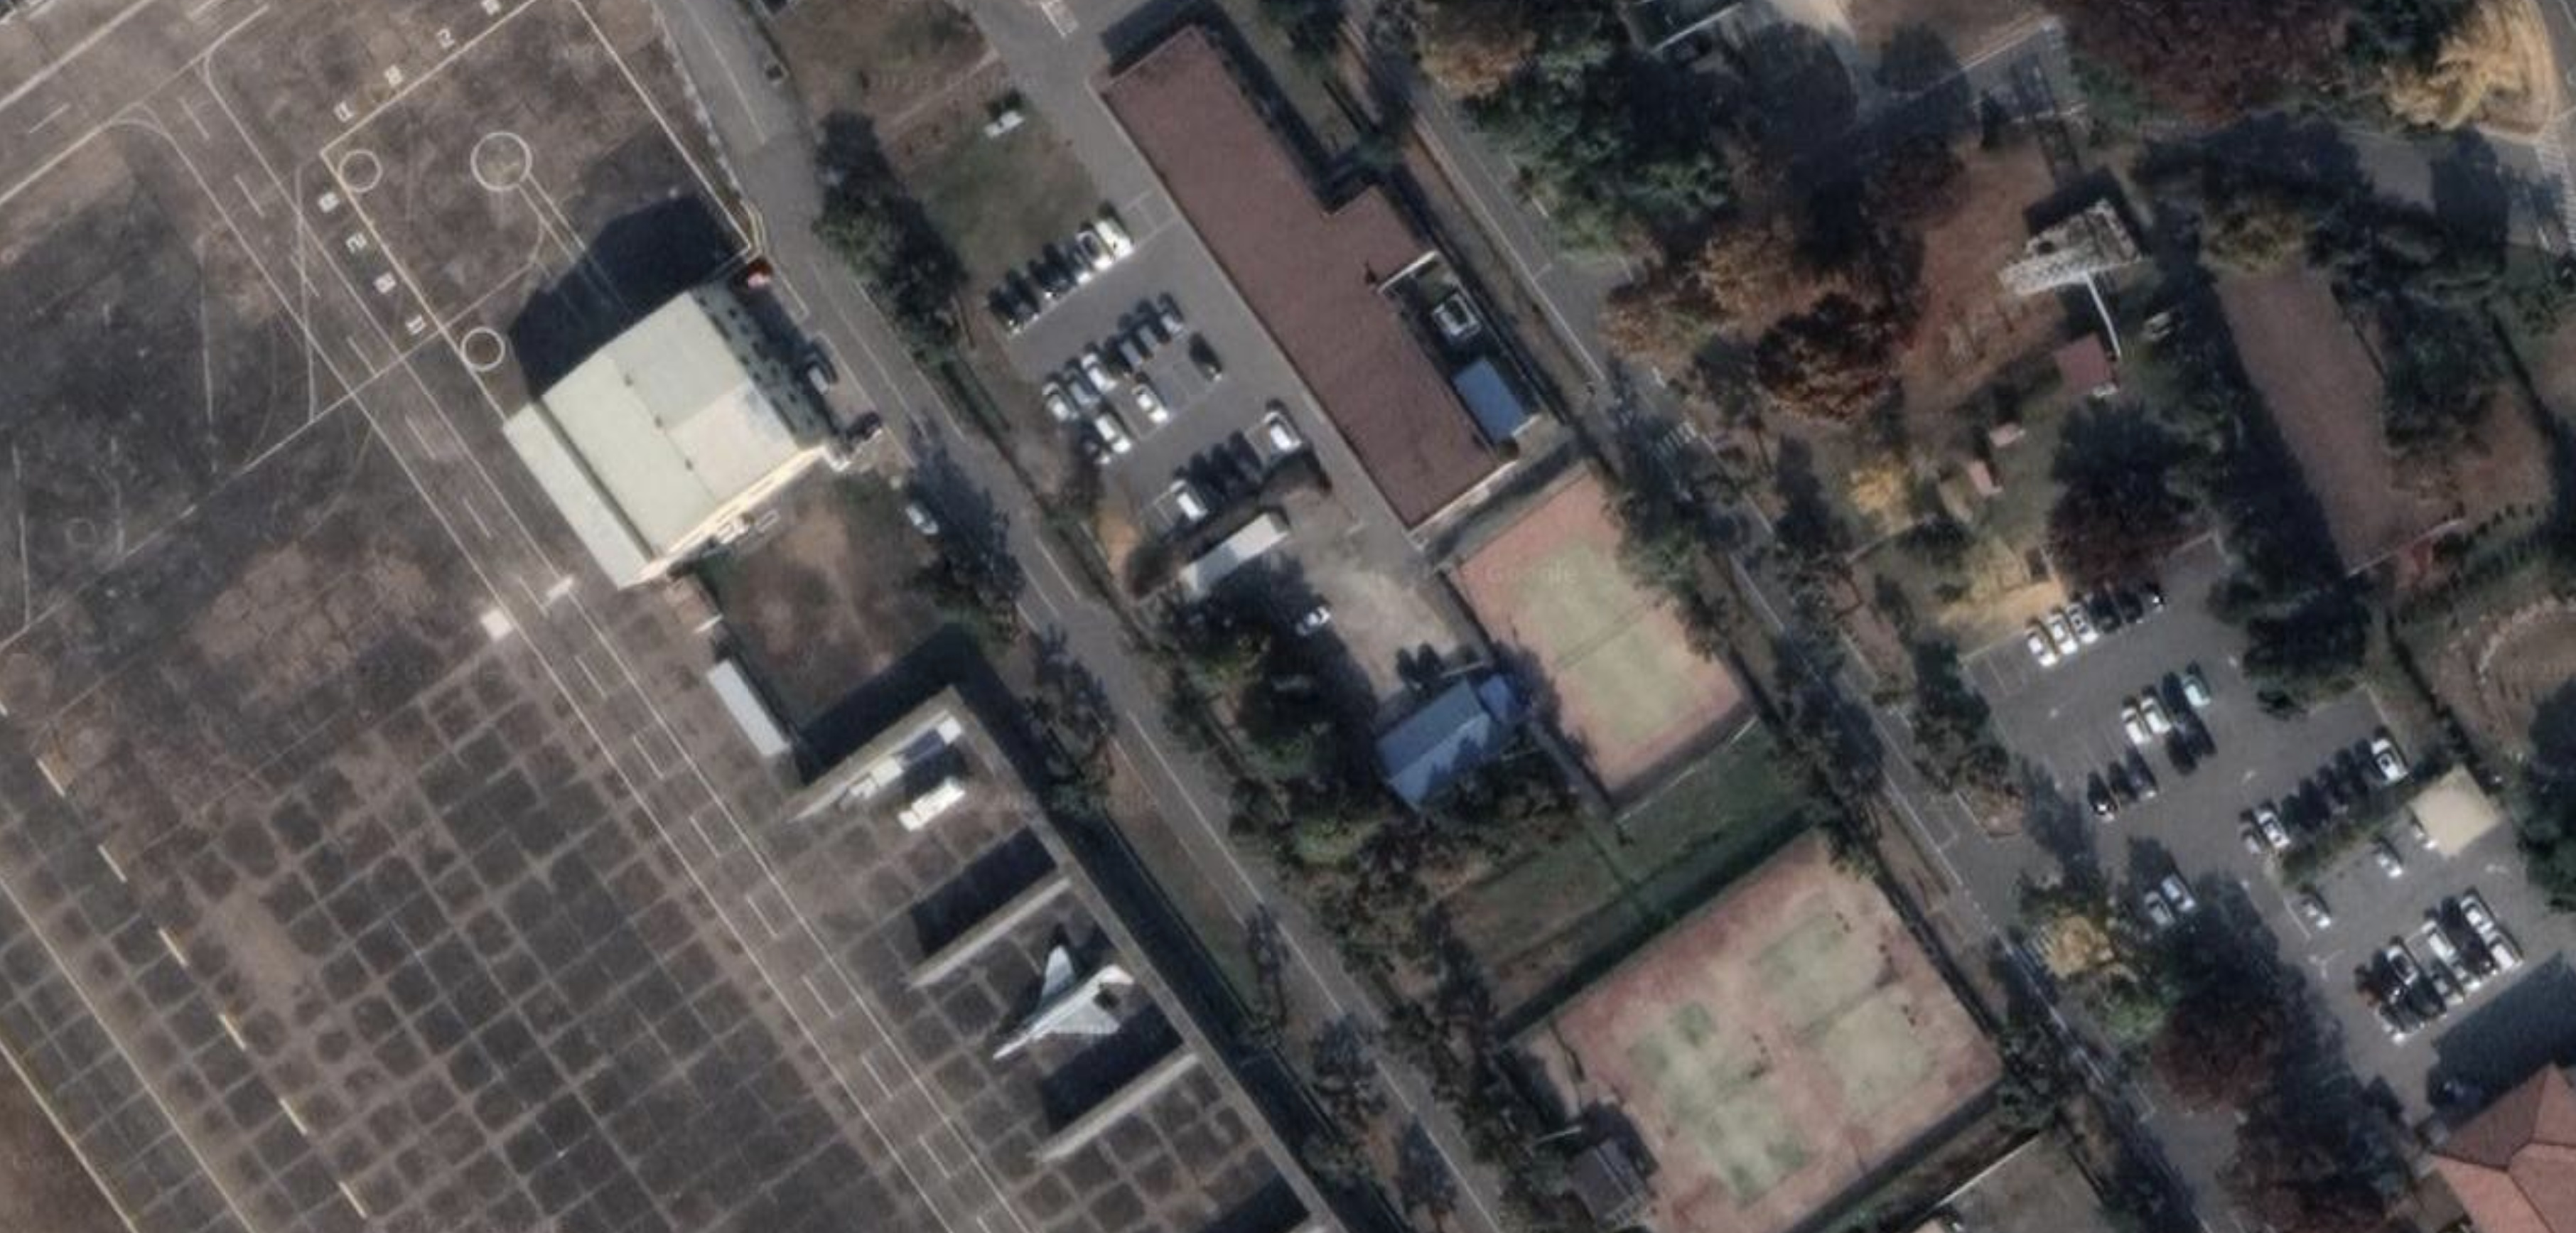F4: (991, 944, 1137, 1060)
